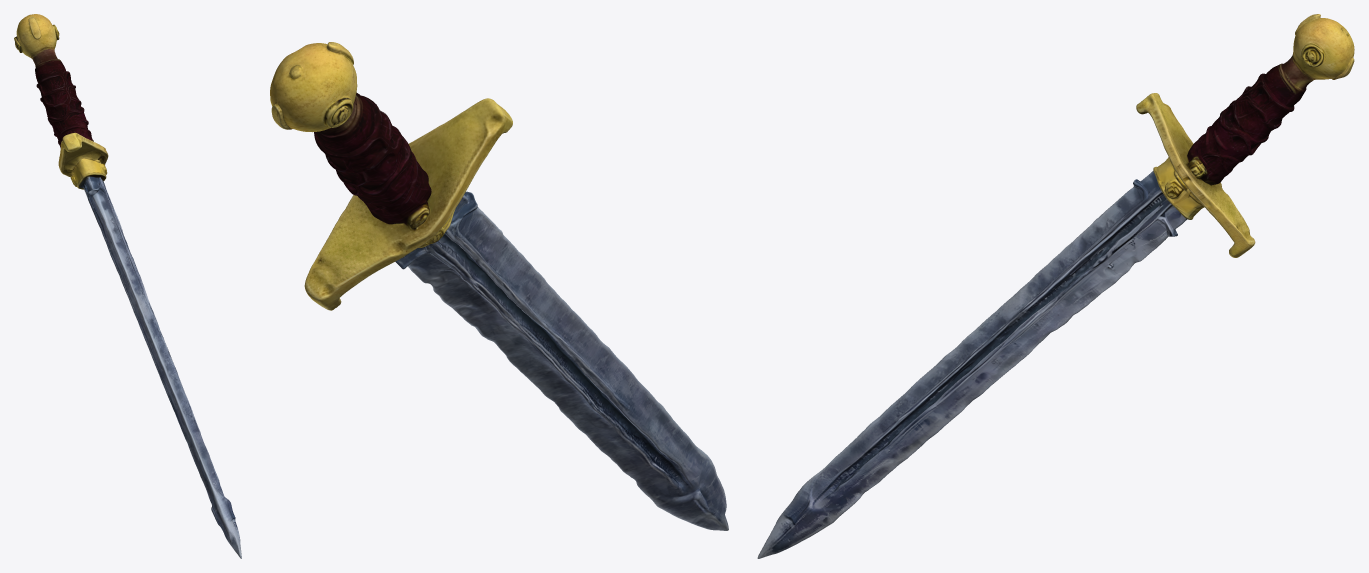
3 views of the same model, side by side, from view 1: azimuth 30°, elevation 25°; view 2: azimuth 150°, elevation 25°; view 3: azimuth 270°, elevation 25° (orthographic). The views are drawn at different scales.
Parts seen in each view (by area): view 1: tripo_node_8ad04581-43bf-47f8-979f-9db9dc8d224f; view 2: tripo_node_8ad04581-43bf-47f8-979f-9db9dc8d224f; view 3: tripo_node_8ad04581-43bf-47f8-979f-9db9dc8d224f.
Boxes of the visible parts, <box> form: tripo_node_8ad04581-43bf-47f8-979f-9db9dc8d224f: <box>14,14,241,558</box>; tripo_node_8ad04581-43bf-47f8-979f-9db9dc8d224f: <box>270,42,728,530</box>; tripo_node_8ad04581-43bf-47f8-979f-9db9dc8d224f: <box>757,14,1354,558</box>.
Bounding box in the file's own units: 0.1766 × 0.9998 × 1.
1 material, 1 textured.
